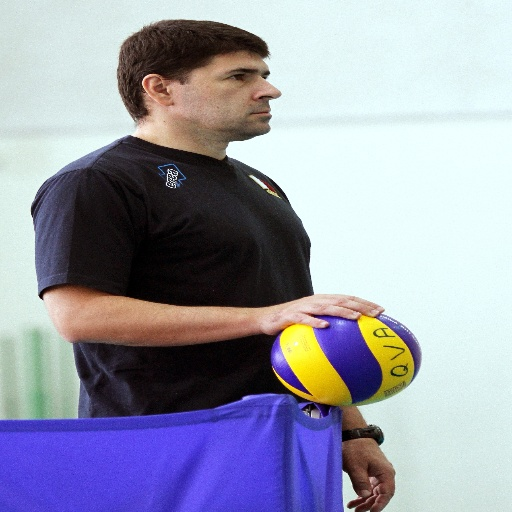hand: (258, 290, 387, 338), (339, 438, 398, 511)
